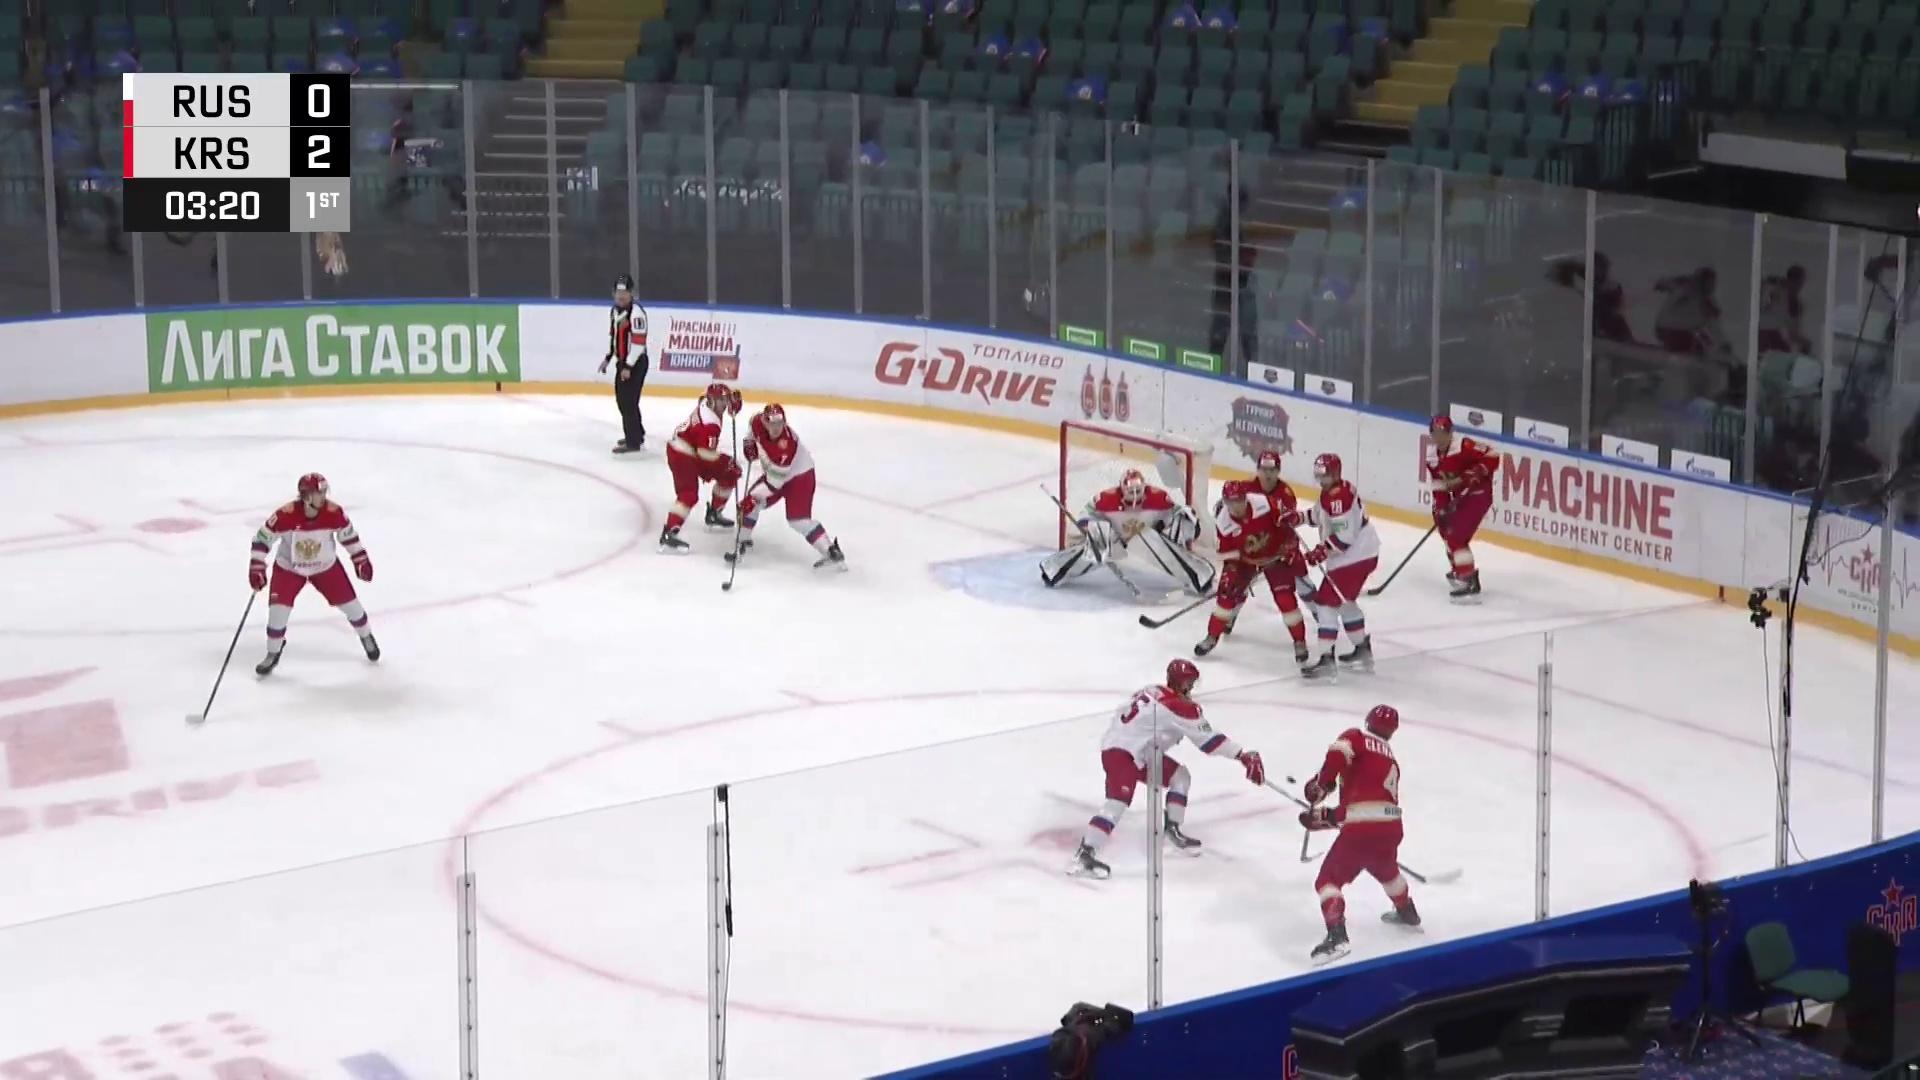ball: (1283, 774, 1299, 786)
